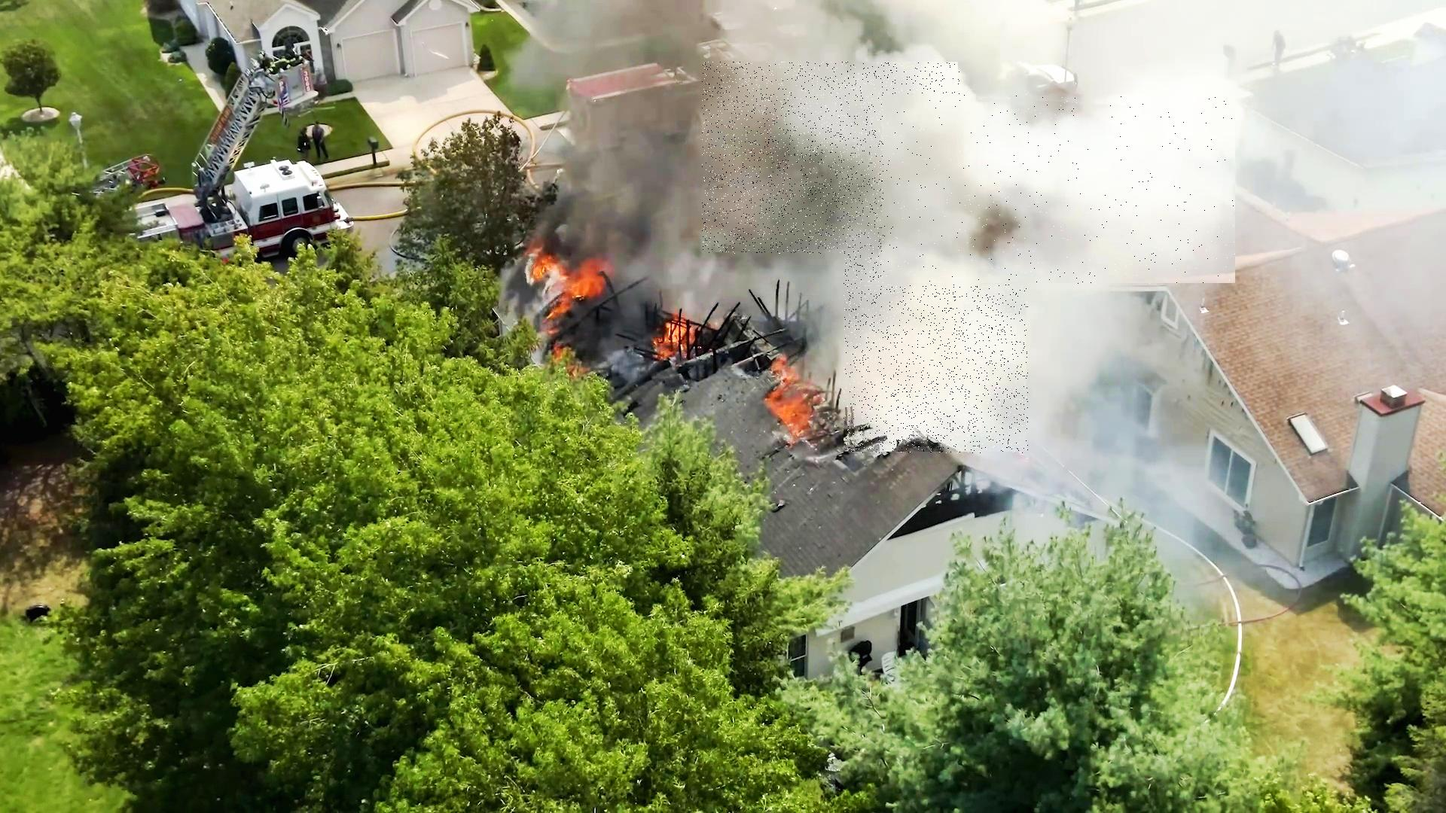smoke: (884, 95, 1235, 285), (703, 62, 960, 254), (844, 198, 1029, 454)
